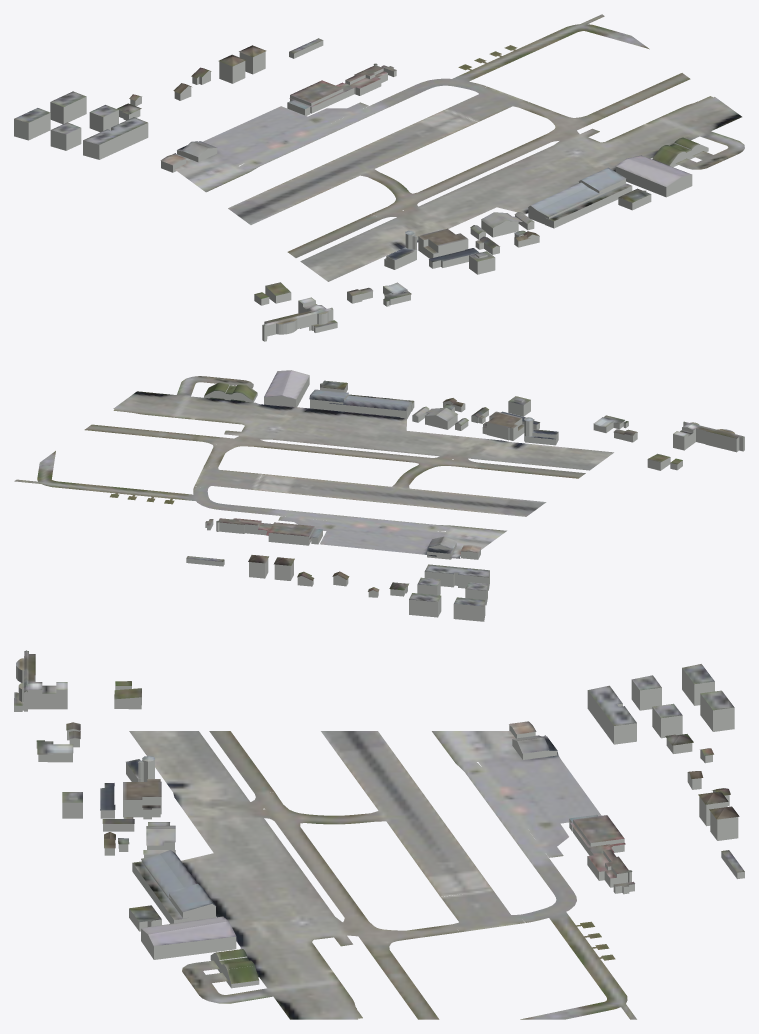
File: LSGS_1_0.glb
The picture shows the model from 3 angles, top to bottom: view 1: azimuth 30°, elevation 25°; view 2: azimuth 150°, elevation 25°; view 3: azimuth 270°, elevation 25°; orthographic projection. The views are drawn at different scales.
Parts seen in each view (by area): view 1: pavement_LSGS_pavement_5184_2237, building_26d64bb674fe2694, pavement_LSGS_pavement_5184_2238, building_595c387af7227aee, building_bd4c5641b817f7d2, building_d6a69ba3e0133f51, building_f6ff2aa8af20418a, building_19d3933df634f5f2, building_475b65cbe405c83a, building_dde3dbaa5a32fbe3, building_fe8e69545ac7d063, building_ae316103b9041f16 (+2 smaller); view 2: pavement_LSGS_pavement_5184_2237, pavement_LSGS_pavement_5184_2238, building_26d64bb674fe2694, building_595c387af7227aee, building_d6a69ba3e0133f51, building_f6ff2aa8af20418a, building_bd4c5641b817f7d2, building_19d3933df634f5f2, building_475b65cbe405c83a, building_dde3dbaa5a32fbe3, building_fe8e69545ac7d063, building_ae316103b9041f16 (+3 smaller); view 3: pavement_LSGS_pavement_5184_2237, building_26d64bb674fe2694, pavement_LSGS_pavement_5184_2238, building_595c387af7227aee, building_bd4c5641b817f7d2, building_19d3933df634f5f2, building_475b65cbe405c83a, building_f6ff2aa8af20418a, building_d6a69ba3e0133f51, building_fe8e69545ac7d063, building_ae316103b9041f16, building_dde3dbaa5a32fbe3 (+3 smaller).
Boxes of the visible parts, box(x1,y1,x2,y2) form: pavement_LSGS_pavement_5184_2237: box(173, 38, 744, 281); building_26d64bb674fe2694: box(530, 137, 699, 221); pavement_LSGS_pavement_5184_2238: box(203, 14, 634, 143); building_595c387af7227aee: box(14, 86, 191, 159); building_bd4c5641b817f7d2: box(528, 144, 708, 228); building_d6a69ba3e0133f51: box(254, 250, 416, 341); building_f6ff2aa8af20418a: box(192, 40, 387, 113); building_19d3933df634f5f2: box(14, 83, 191, 144); building_475b65cbe405c83a: box(191, 38, 387, 107); building_dde3dbaa5a32fbe3: box(412, 234, 539, 274); building_fe8e69545ac7d063: box(254, 247, 416, 327); building_ae316103b9041f16: box(413, 228, 539, 261); pavement_LSGS_pavement_5184_2237: box(43, 376, 613, 558); pavement_LSGS_pavement_5184_2238: box(14, 460, 435, 556); building_26d64bb674fe2694: box(204, 370, 413, 410); building_595c387af7227aee: box(333, 571, 489, 621); building_d6a69ba3e0133f51: box(532, 421, 744, 470); building_f6ff2aa8af20418a: box(186, 520, 314, 586); building_bd4c5641b817f7d2: box(204, 376, 414, 418); building_19d3933df634f5f2: box(332, 564, 489, 606); building_475b65cbe405c83a: box(186, 518, 315, 580); building_dde3dbaa5a32fbe3: box(443, 399, 539, 440); building_fe8e69545ac7d063: box(532, 415, 744, 464); building_ae316103b9041f16: box(443, 396, 539, 430); pavement_LSGS_pavement_5184_2237: box(129, 731, 555, 1019); building_26d64bb674fe2694: box(129, 850, 258, 983); pavement_LSGS_pavement_5184_2238: box(555, 751, 636, 1019); building_595c387af7227aee: box(587, 668, 734, 789); building_bd4c5641b817f7d2: box(129, 860, 259, 988); building_19d3933df634f5f2: box(588, 664, 734, 778); building_475b65cbe405c83a: box(570, 788, 744, 878); building_f6ff2aa8af20418a: box(573, 790, 744, 887); building_d6a69ba3e0133f51: box(14, 666, 141, 781); building_fe8e69545ac7d063: box(14, 650, 141, 778); building_ae316103b9041f16: box(62, 760, 161, 848); building_dde3dbaa5a32fbe3: box(62, 762, 161, 855).
Size of the model in its own units: 611 by 26.15 by 534.
Materials: 3 (2 with a texture image).
